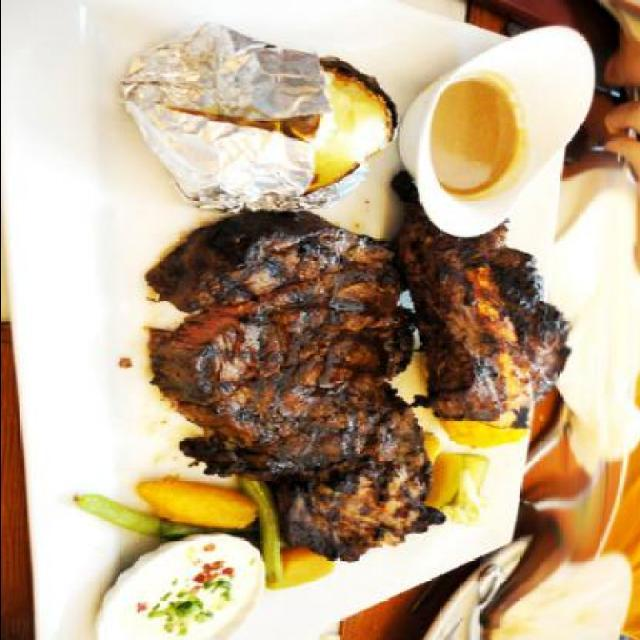Steak: (156, 230, 548, 546)
